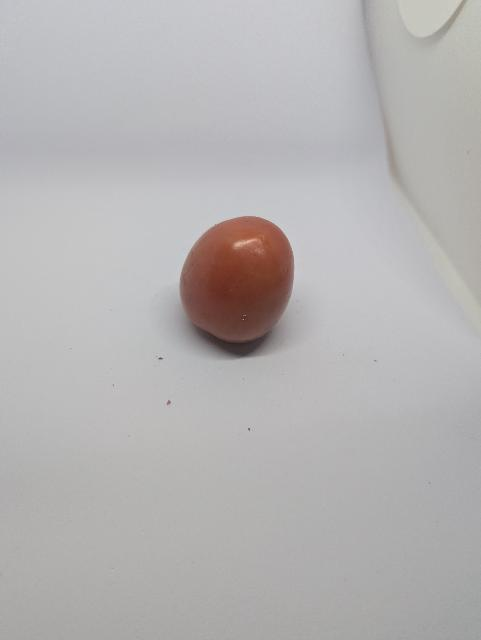red: (179, 212, 297, 342)
